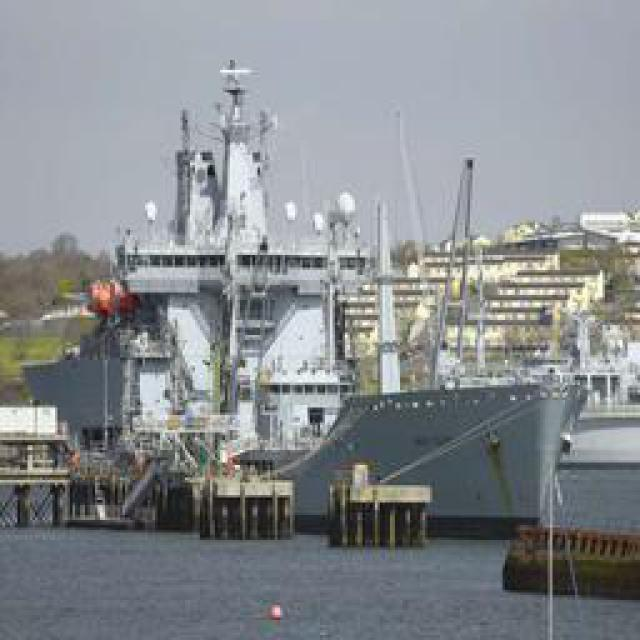Ship: (21, 47, 578, 549)
